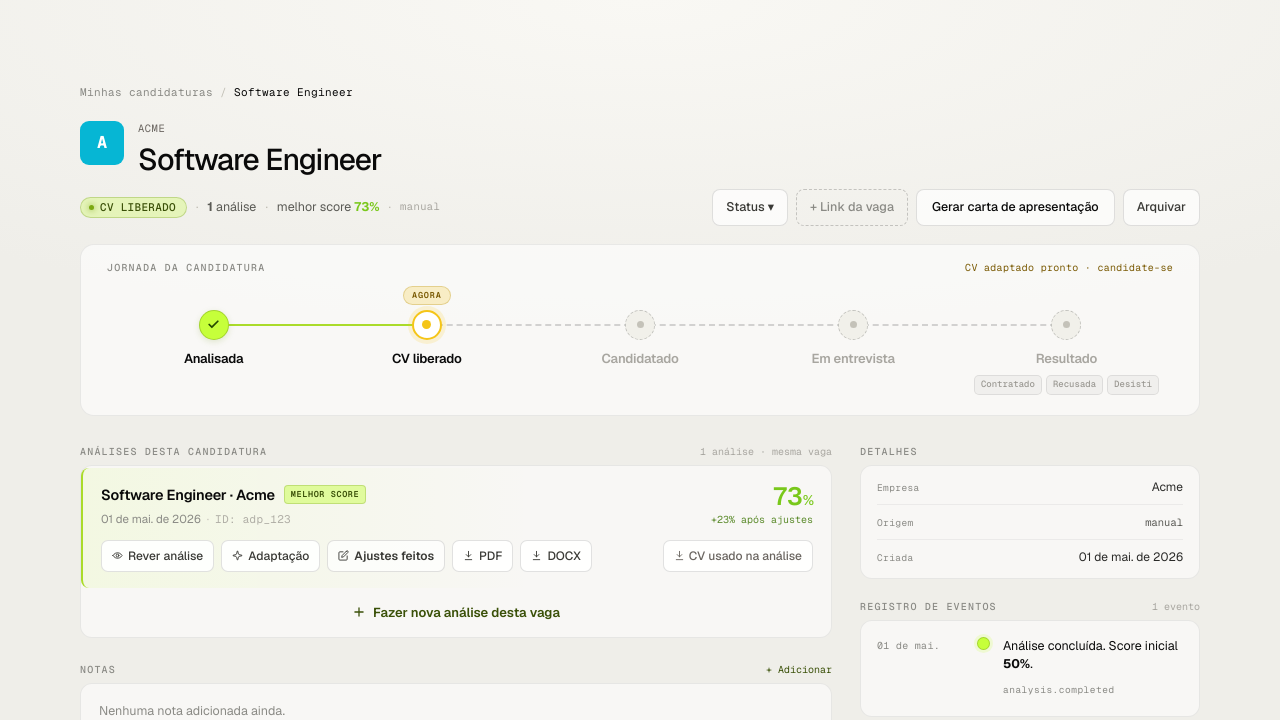
DetailClient - CV ADAPTADO card › shows the resume used for the selected analysis
Click the button "Ajustes feitos": (386, 556) [327, 540, 445, 572]
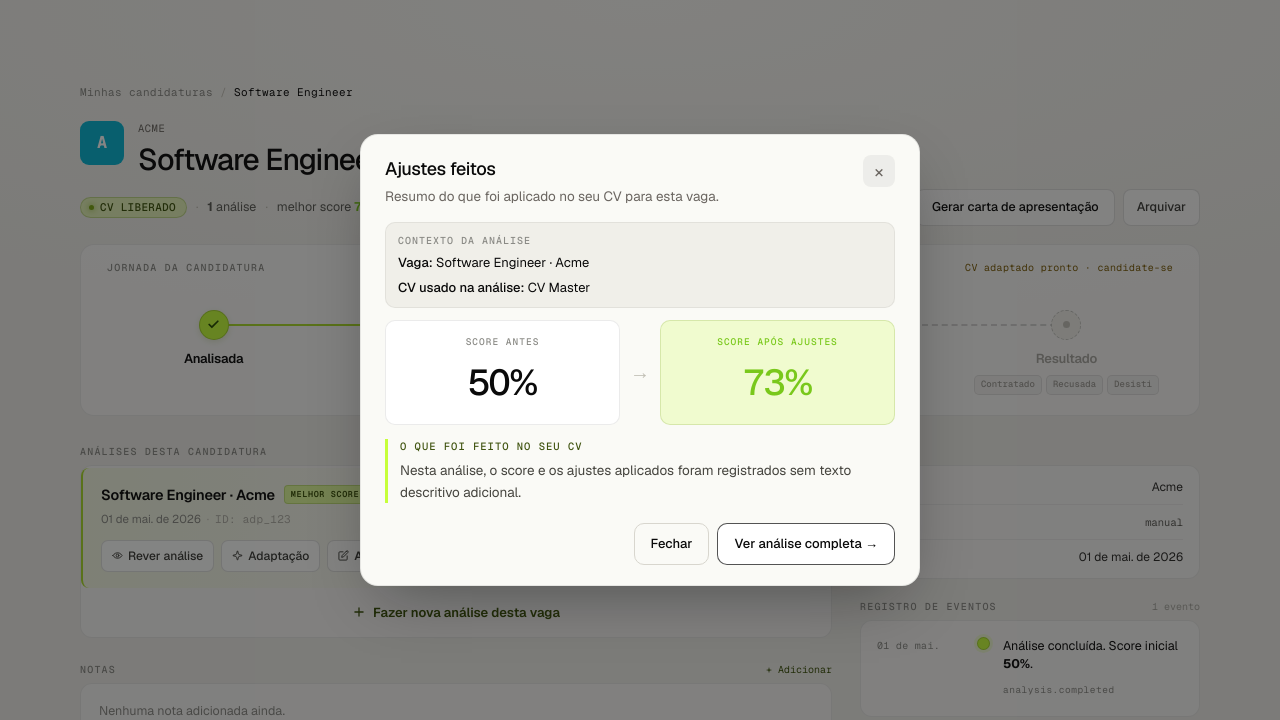
Check: the text "CV usado na análise:" is shown, box [398, 279, 524, 296]
Check: the text "CV Master" is shown, box [528, 279, 590, 296]
